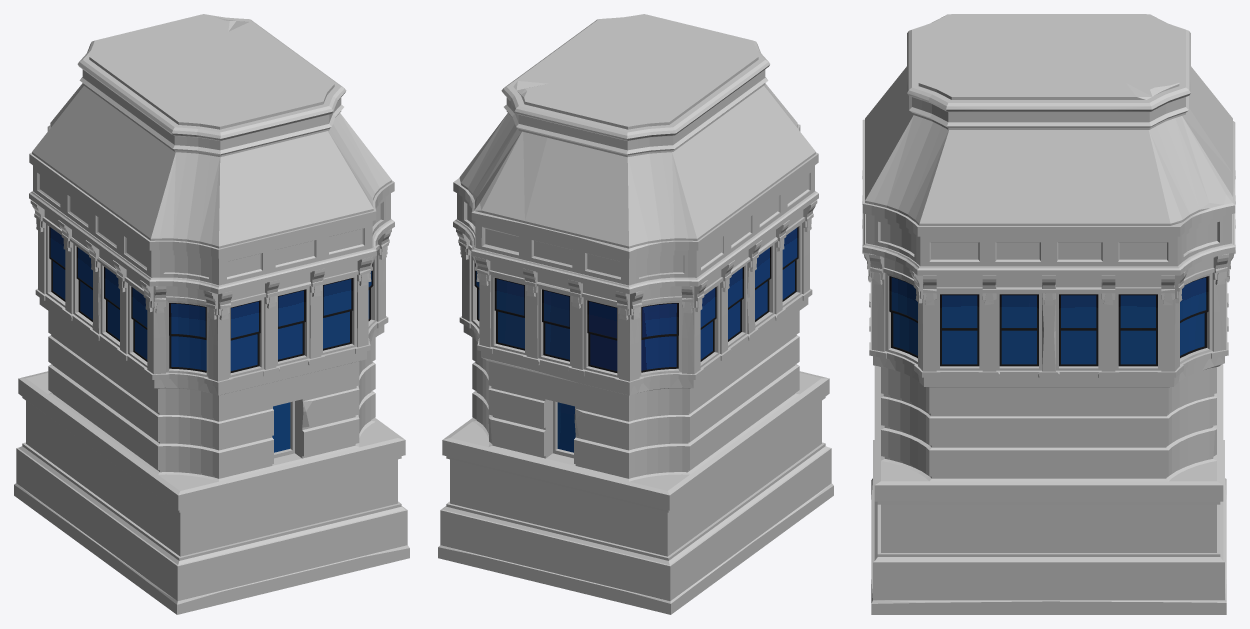
Rendered from BridgeBuilding01.fbx.
The picture shows the model from 3 angles, left to right: view 1: azimuth 30°, elevation 25°; view 2: azimuth 150°, elevation 25°; view 3: azimuth 270°, elevation 25°; orthographic projection. The views are drawn at different scales.
Parts seen in each view (by area): view 1: SM_City_Bridge_Building_02.mo; view 2: SM_City_Bridge_Building_02.mo; view 3: SM_City_Bridge_Building_02.mo.
Boxes of the visible parts, x1,y1,x2,y2 form: SM_City_Bridge_Building_02.mo: (14,14,409,614); SM_City_Bridge_Building_02.mo: (438,14,833,614); SM_City_Bridge_Building_02.mo: (862,14,1235,614).
Bounding box in the file's own units: 498 × 880 × 598.
